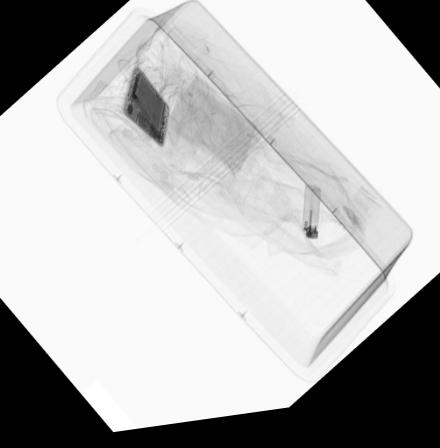Lighter: (302, 192, 321, 249)
